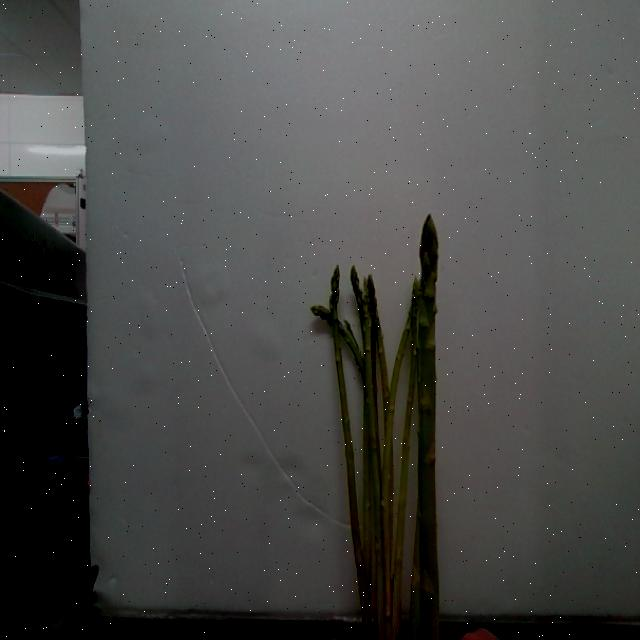aspargus: (419, 218, 440, 640)
